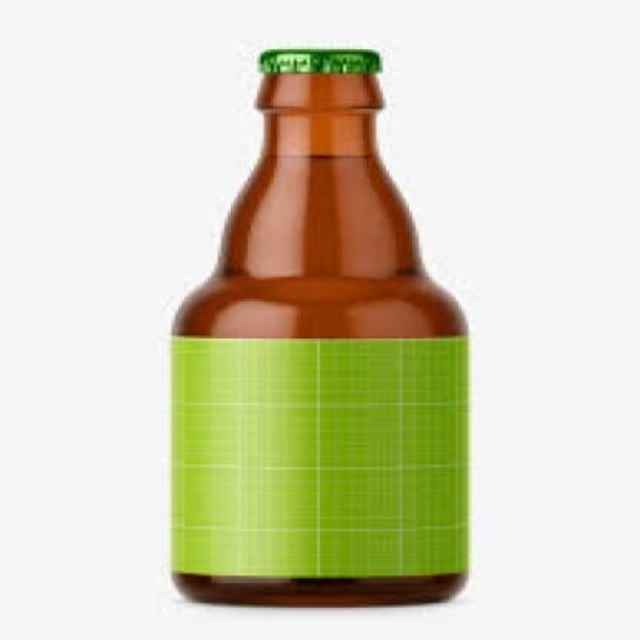trash: (172, 49, 466, 603)
